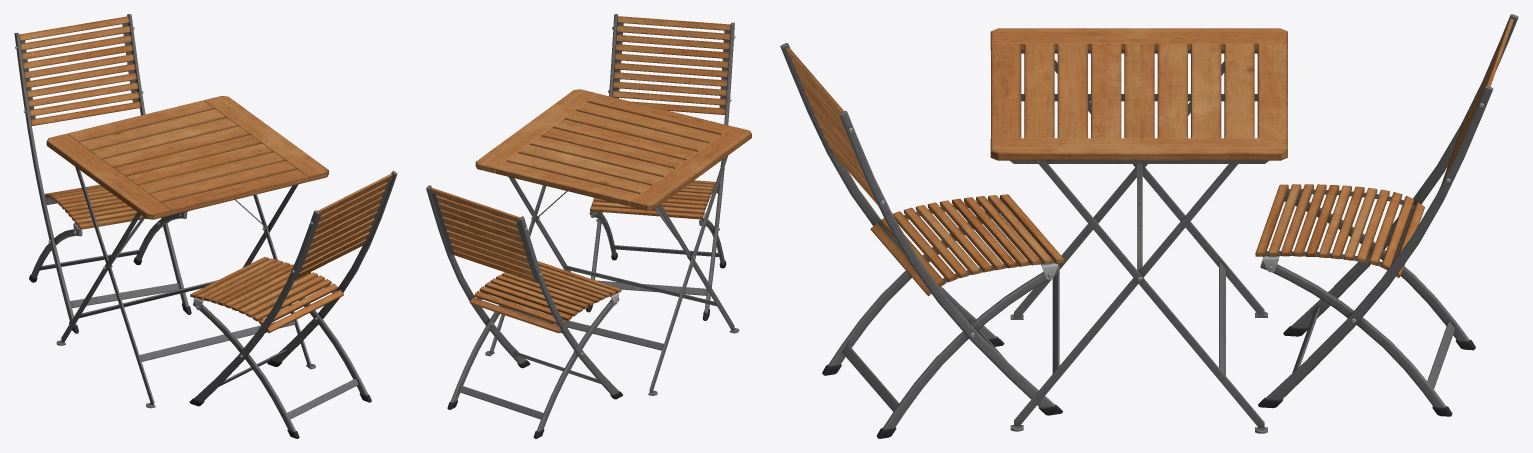
The model's file is outdoor-chairs.glb.
3 renders of one model, left to right at view 1: azimuth 30°, elevation 25°; view 2: azimuth 150°, elevation 25°; view 3: azimuth 270°, elevation 25°, orthographic. The views are drawn at different scales.
Visible parts, largest first — view 1: outdoor_table_chair_set_01_table, outdoor_table_chair_set_01_chair_02, outdoor_table_chair_set_01_chair_01; view 2: outdoor_table_chair_set_01_table, outdoor_table_chair_set_01_chair_02, outdoor_table_chair_set_01_chair_01; view 3: outdoor_table_chair_set_01_table, outdoor_table_chair_set_01_chair_01, outdoor_table_chair_set_01_chair_02.
Part boxes in pixels (x1,y1,x2,y2): outdoor_table_chair_set_01_table: (46, 96, 328, 408); outdoor_table_chair_set_01_chair_02: (14, 14, 191, 333); outdoor_table_chair_set_01_chair_01: (189, 171, 397, 438); outdoor_table_chair_set_01_table: (475, 89, 751, 395); outdoor_table_chair_set_01_chair_02: (426, 185, 622, 438); outdoor_table_chair_set_01_chair_01: (586, 14, 735, 320); outdoor_table_chair_set_01_table: (990, 28, 1287, 433); outdoor_table_chair_set_01_chair_01: (780, 43, 1064, 438); outdoor_table_chair_set_01_chair_02: (1255, 14, 1518, 416).
Size of the model in its own units: 0.7417 by 0.8586 by 1.72.
Materials: 2 (2 with a texture image).
